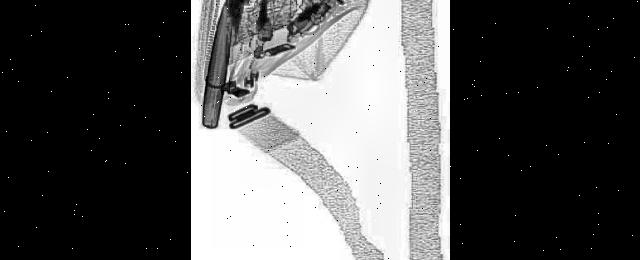Knife: (197, 0, 266, 139)
